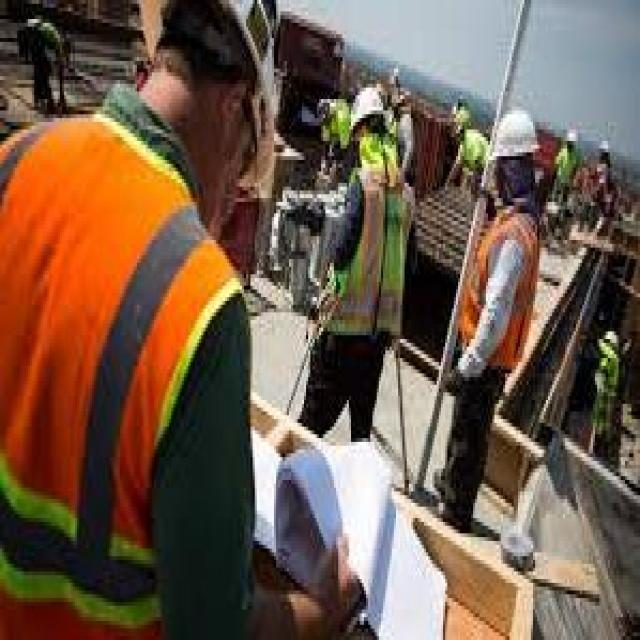Reflective-Jacket: (0, 107, 253, 636), (314, 149, 420, 358), (456, 190, 554, 388)
Safety-Helmet: (132, 0, 280, 110), (482, 99, 546, 175), (342, 76, 394, 145), (566, 120, 581, 152), (600, 137, 614, 161)
